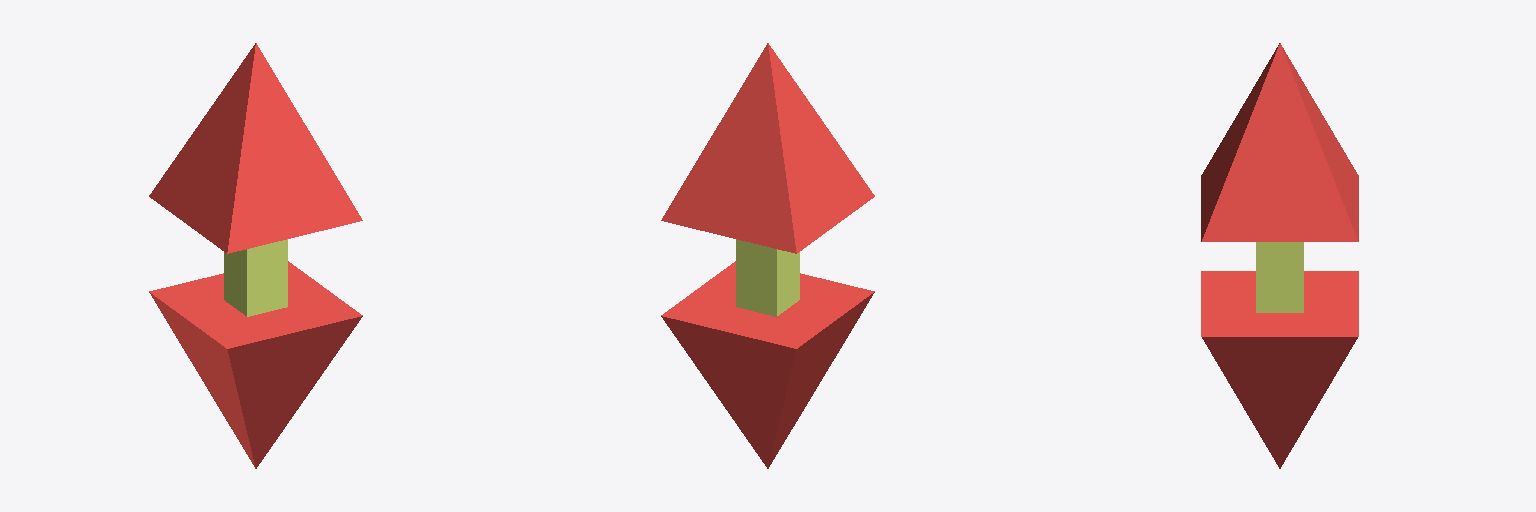
3 renders of one model, left to right at view 1: azimuth 30°, elevation 25°; view 2: azimuth 150°, elevation 25°; view 3: azimuth 270°, elevation 25°, orthographic.
Visible parts, largest first — view 1: 立方体.001; view 2: 立方体.001; view 3: 立方体.001.
Boxes of the visible parts, x1,y1,x2,y2 form: 立方体.001: [149, 43, 362, 468]; 立方体.001: [661, 43, 874, 468]; 立方体.001: [1201, 43, 1358, 468].
Bounding box in the file's own units: 1.2 × 3.6 × 1.2.
Materials: 1 (1 with a texture image).